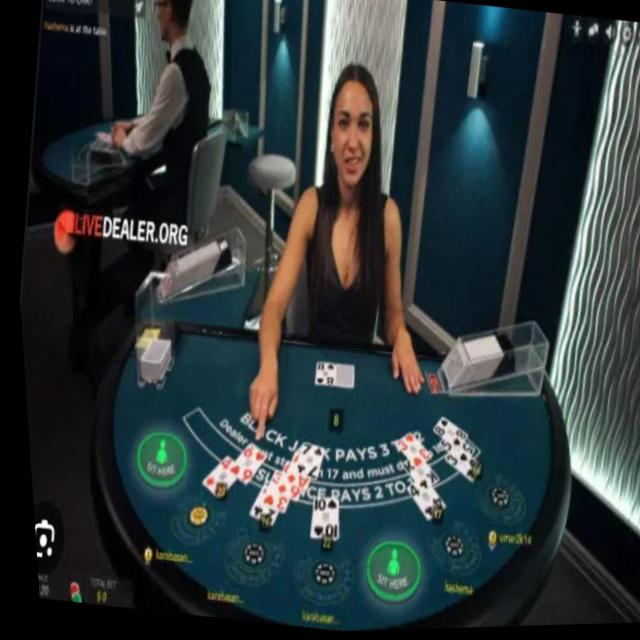Card-10: (303, 498, 332, 541)
Card-2: (242, 482, 271, 528)
Card-3: (388, 433, 425, 471), (255, 472, 283, 516), (438, 455, 475, 485)
Card-4: (400, 478, 439, 524), (195, 457, 230, 501)
Card-5: (433, 441, 468, 467)
Card-6: (221, 444, 261, 487), (269, 461, 294, 504)
Card-7: (289, 444, 319, 483)
Card-8: (427, 417, 462, 454), (309, 362, 330, 390)
Card-A: (279, 452, 304, 491)
Card-K: (395, 461, 433, 487)
